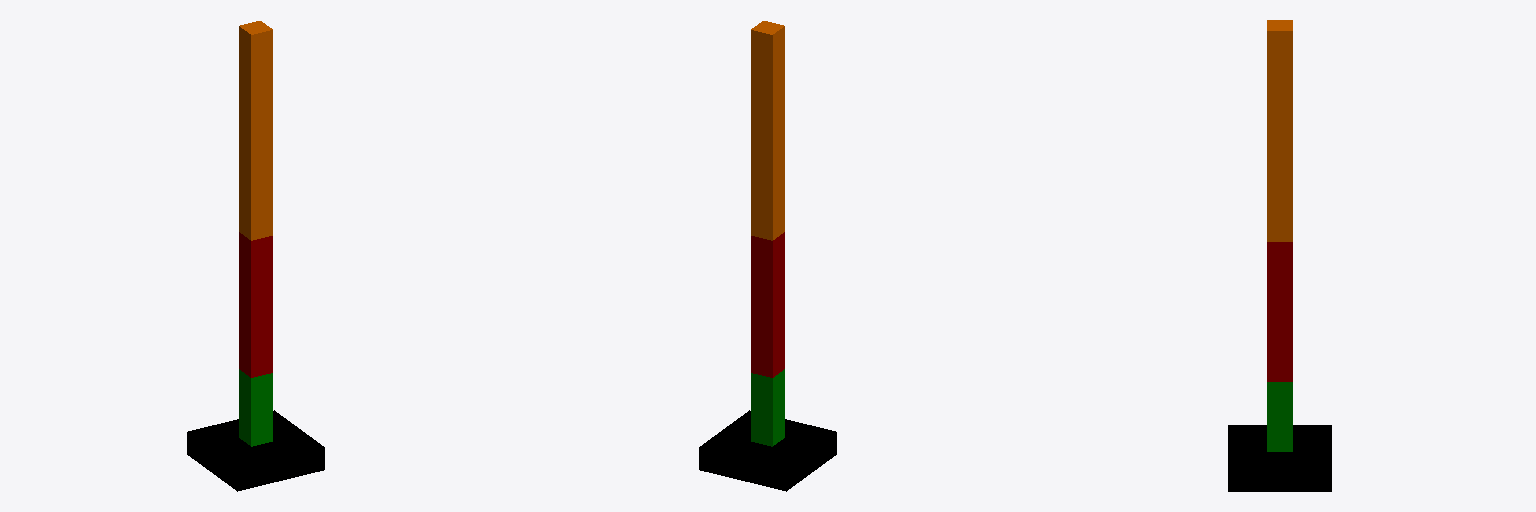
robot.urdf — robot:
<robot name="robot">

  <!-- BASE -->
  <link name="base_link">
    <visual>
      <geometry>
        <box size="0.2 0.2 0.05"/>
      </geometry>
      <origin xyz="0 0 -0.025"/>
      <material name="Black">
        <color rgba="0 0 0 0.5"/>
      </material>
    </visual>
  </link>

  <!-- COLUMNA -->
  <link name="shoulder_link">
    <visual>
      <geometry>
        <box size="0.05 0.05 0.15"/>
      </geometry>

      <origin xyz="0 0 0.075"/>

      <material name="green">
        <color rgba="0 0.5 0 1"/>
      </material>
    </visual>
  </link>

  <!-- ESLABON 2 -->
  <link name="arm_link">
    <visual>
      <geometry>
        <box size="0.05 0.05 0.3"/>
      </geometry>

      <origin xyz="0 0 0.15"/>

      <material name="red">
        <color rgba="0.6 0 0 1"/>
      </material>
    </visual>
  </link>

  <!-- ESLABON 3 -->
  <link name="forearm_link">
    <visual>
      <geometry>
        <box size="0.05 0.05 0.45"/>
      </geometry>

      <origin xyz="0 0 0.225"/>

      <material name="orange">
        <color rgba="0.8 0.4 0 1"/>
      </material>
    </visual>
  </link>

  <!-- JOINT 1 -->
  <joint name="shoulder_joint" type="revolute">
    <parent link="base_link"/>
    <child link="shoulder_link"/>

    <origin xyz="0 0 0"/>

    <axis xyz="0 0 1"/>

    <limit
      lower="-3.14"
      upper="3.14"
      effort="20"
      velocity="1"/>
  </joint>

  <!-- JOINT 2 -->
  <joint name="arm_joint" type="revolute">
    <parent link="shoulder_link"/>
    <child link="arm_link"/>

    <origin xyz="0 0 0.15"/>

    <axis xyz="0 1 0"/>

    <limit
      lower="-1.57"
      upper="1.57"
      effort="10"
      velocity="1"/>
  </joint>

  <!-- JOINT 3 -->
  <joint name="forearm_joint" type="revolute">
    <parent link="arm_link"/>
    <child link="forearm_link"/>

    <origin xyz="0 0 0.3"/>

    <axis xyz="0 1 0"/>

    <limit
      lower="-1.57"
      upper="1.57"
      effort="10"
      velocity="1"/>
  </joint>

</robot>

--- Facts derived from the render (not from the file) ---
3 views of the same robot in one strip: view 1: azimuth 30°, elevation 25°; view 2: azimuth 150°, elevation 25°; view 3: azimuth 270°, elevation 25° (orthographic).
Model robot with 4 links and 3 joints (3 revolute), rooted at base_link, posed every joint at zero.
Links seen in each view (by area): view 1: forearm_link, base_link, arm_link, shoulder_link; view 2: forearm_link, base_link, arm_link, shoulder_link; view 3: base_link, forearm_link, arm_link, shoulder_link.
Link boxes in pixels (x1,y1,x2,y2): forearm_link: (239,21,272,240); base_link: (187,410,324,491); arm_link: (239,232,272,377); shoulder_link: (239,369,272,446); forearm_link: (751,21,784,240); base_link: (699,410,836,491); arm_link: (751,232,784,377); shoulder_link: (751,369,784,446); base_link: (1228,425,1331,491); forearm_link: (1267,20,1292,241); arm_link: (1267,242,1292,381); shoulder_link: (1267,382,1292,451).
Bounding box of the posed robot: 0.2 × 0.2 × 0.95 m (x, y, z).
Geometry: primitives only (box / cylinder / sphere), no mesh files.
